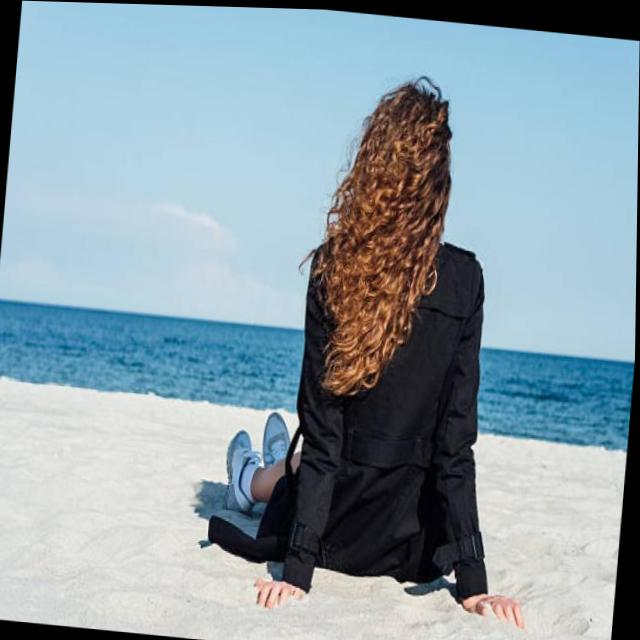no helmet: (351, 79, 458, 255)
